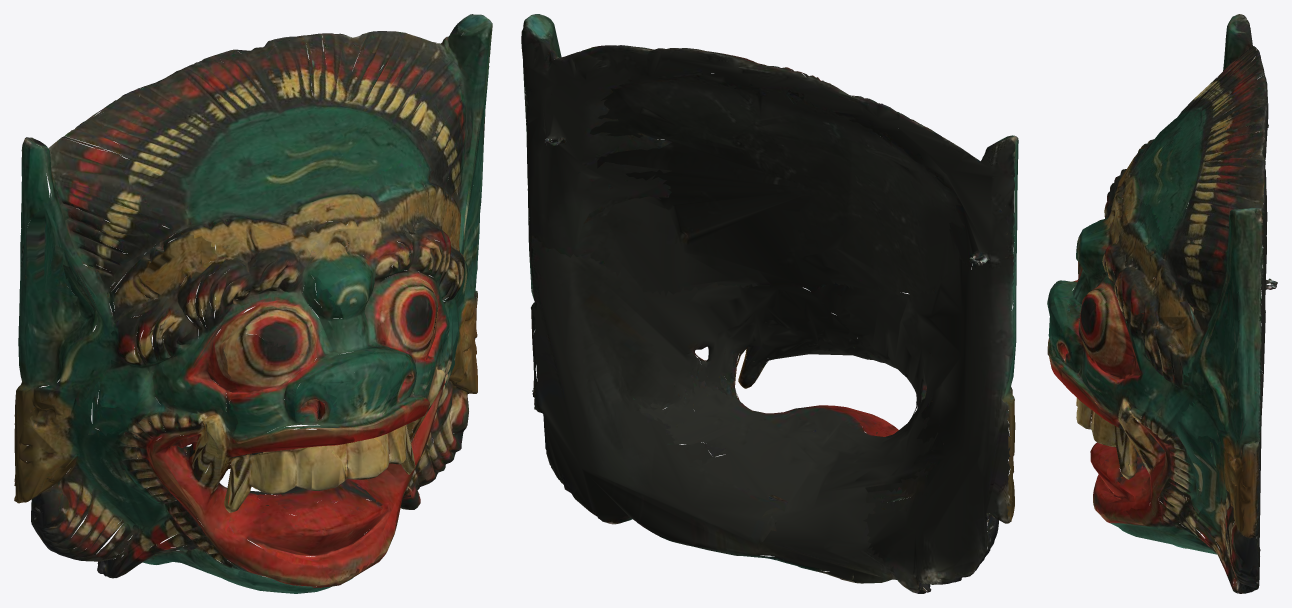
The model's file is barongs.glb.
3 renders of one model, left to right at view 1: azimuth 30°, elevation 25°; view 2: azimuth 150°, elevation 25°; view 3: azimuth 270°, elevation 25°, orthographic. The views are drawn at different scales.
Visible parts, largest first — view 1: Object_4.001; view 2: Object_4.001; view 3: Object_4.001.
Boxes of the visible parts, x1,y1,x2,y2 form: Object_4.001: [14, 14, 492, 593]; Object_4.001: [521, 14, 1018, 593]; Object_4.001: [1047, 14, 1277, 593].
Size of the model in its own units: 30.97 by 30.95 by 14.78.
1 material, 1 textured.
